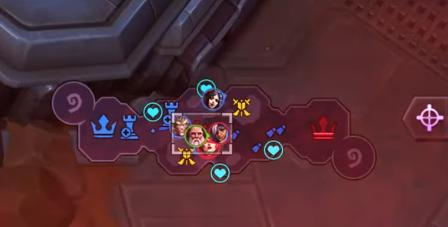blue nexus: (90, 112, 117, 138)
red nexus: (308, 114, 337, 139)
